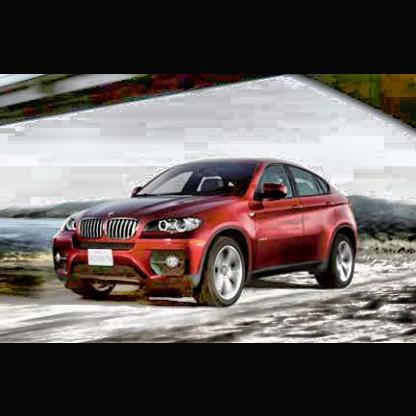BMW X6 SUV 2012: (51, 159, 359, 312)
